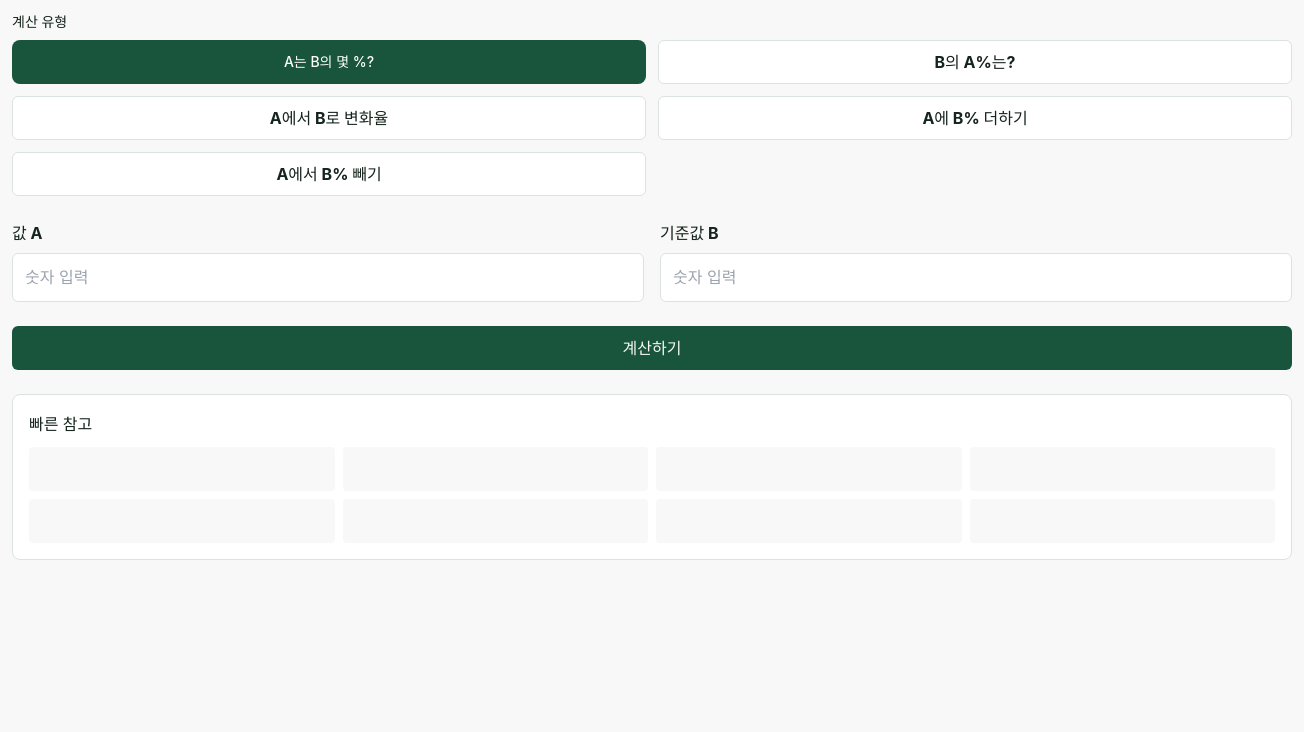
Test: legacy simple tool behavior › calculates a percentage and suppresses output for empty input
Type "25" into the number field labelled "값 A" at [328, 278], box [12, 253, 644, 302]
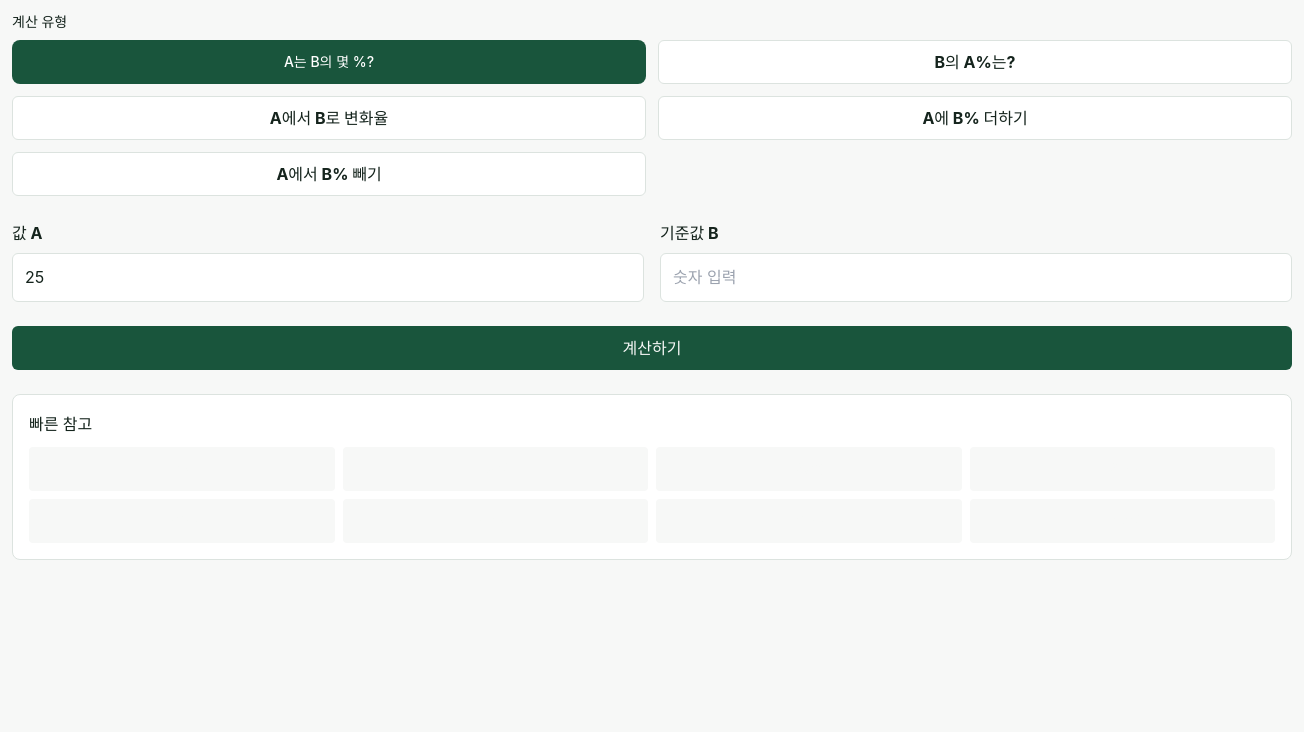
Type "100" into the number field labelled "기준값 B" at [976, 278], box [660, 253, 1292, 302]
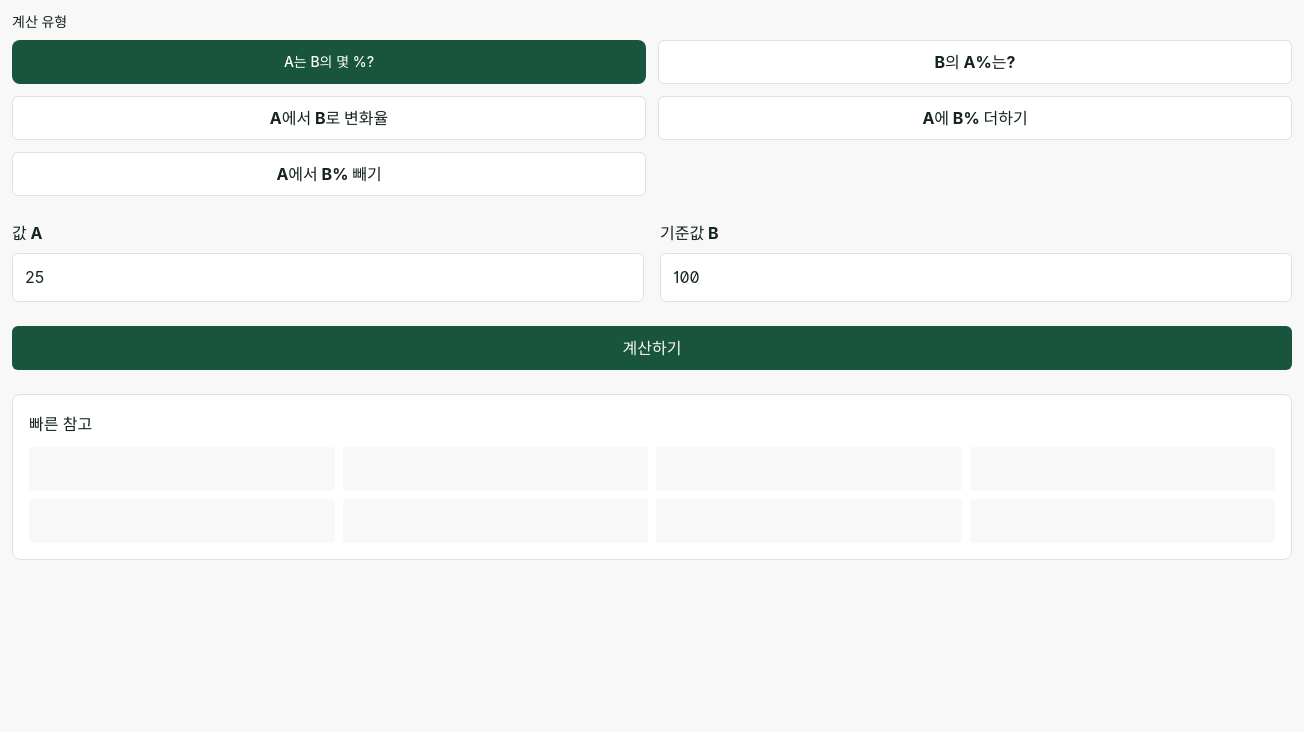
Click the button "계산하기" at [652, 348], box [12, 326, 1292, 370]
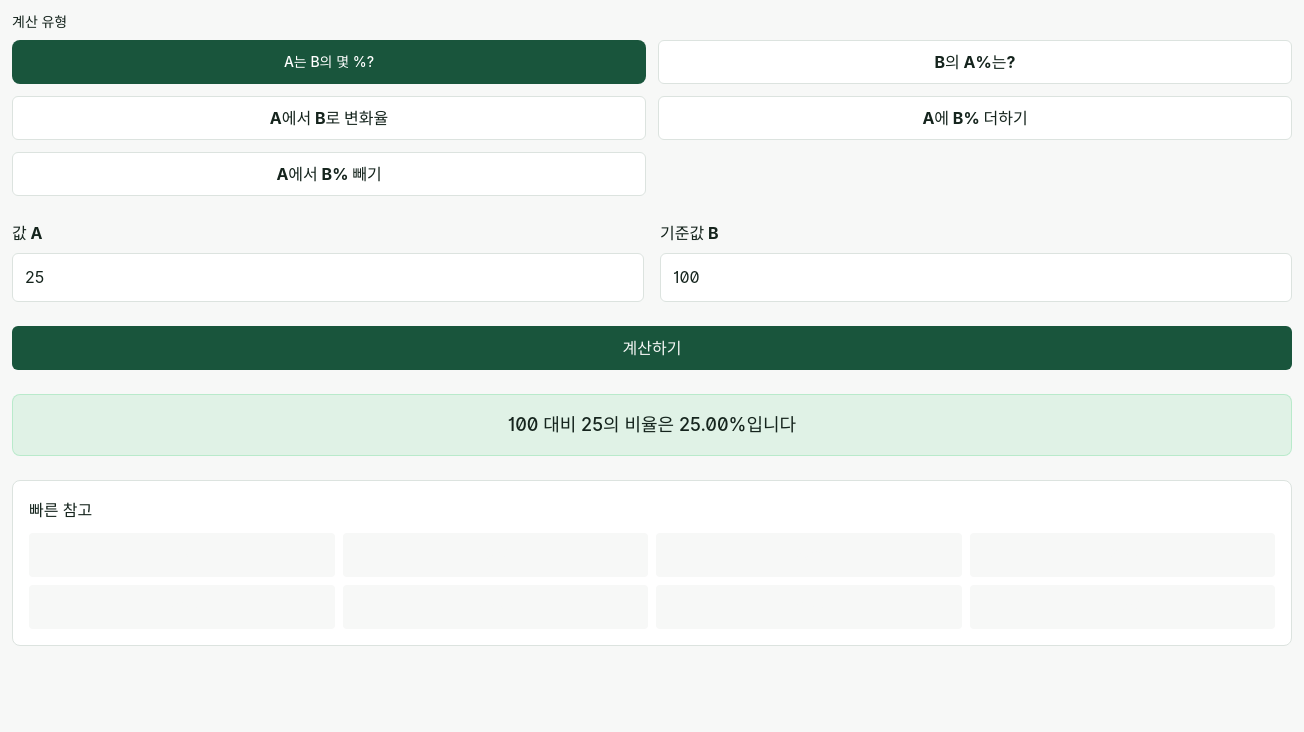
Expected: the text "100 대비 25의 비율은 25.00%입니다" is shown, [508, 414, 796, 435]
Clear the number field labelled "값 A" at [328, 278], box [12, 253, 644, 302]
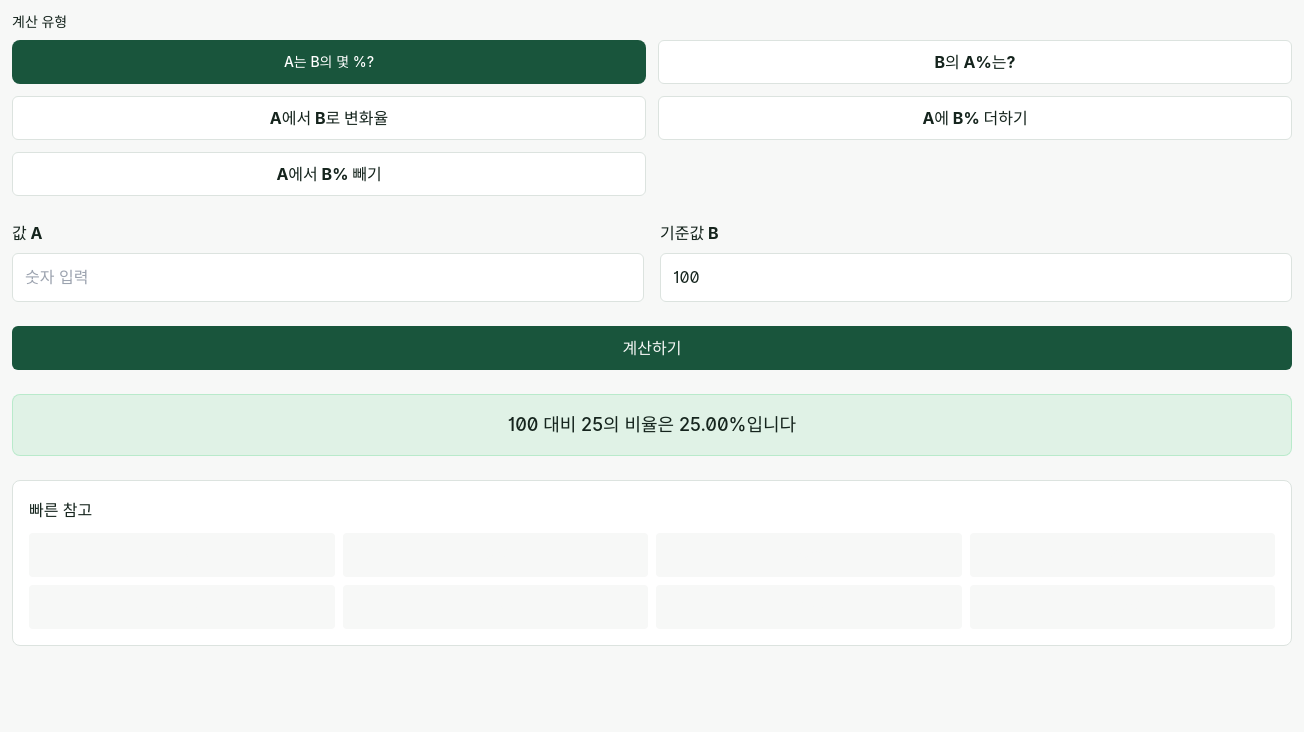
Click the button "계산하기" at [652, 348], box [12, 326, 1292, 370]
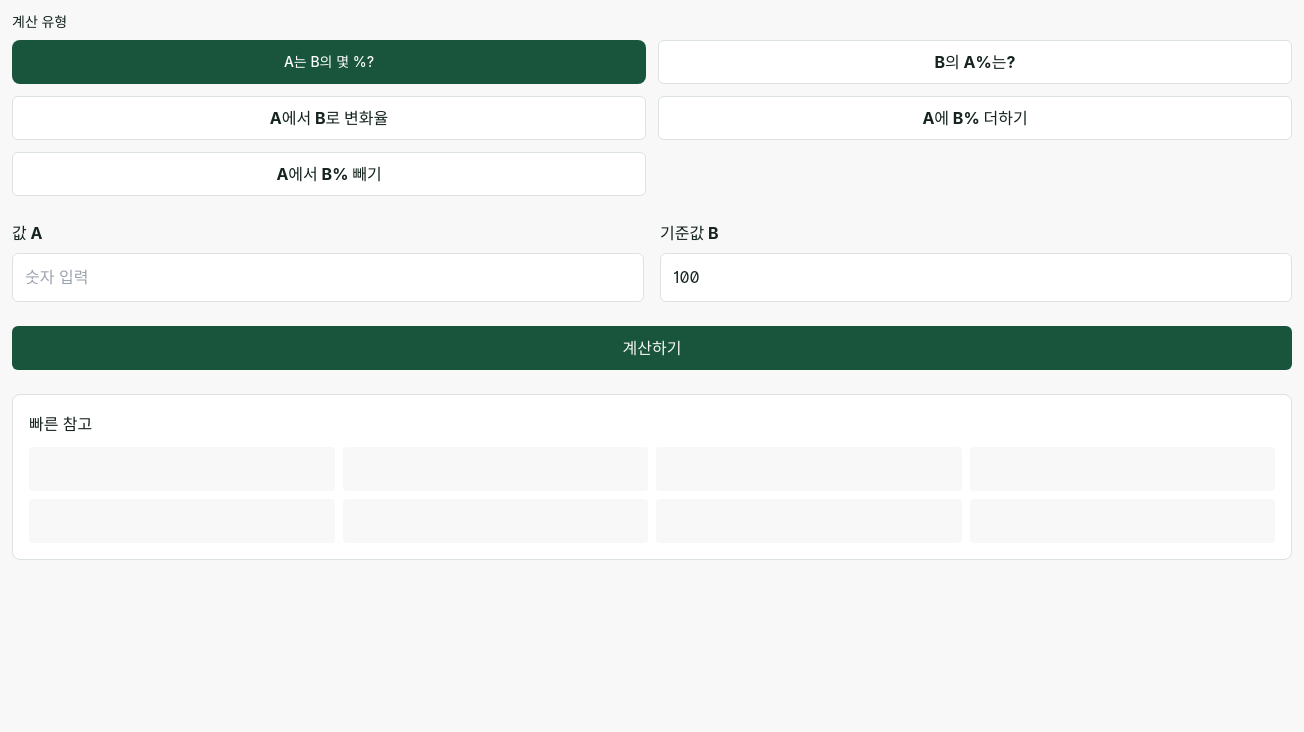
Expected: the text "25.00%입니다" is gone
